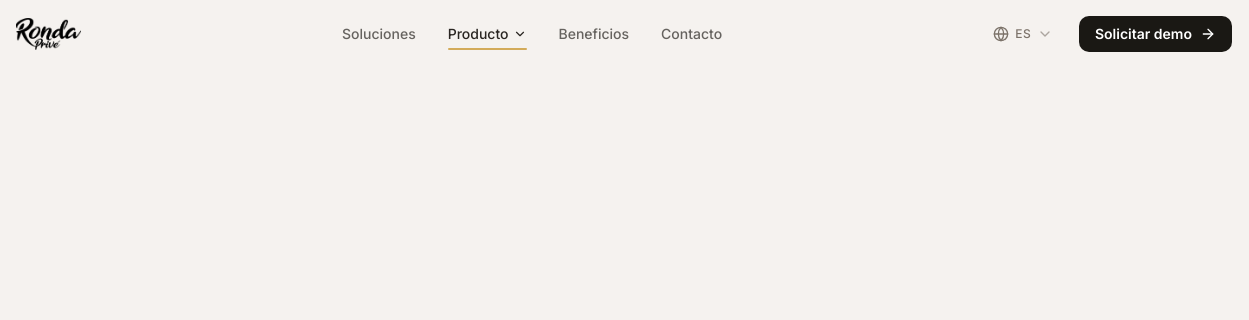
Test: Navbar product menu › is a collapsed disclosure until it is opened
This screenshot has width=1249, height=320.
Click the button "Producto". click: (487, 34)
box: [448,24,526,44]
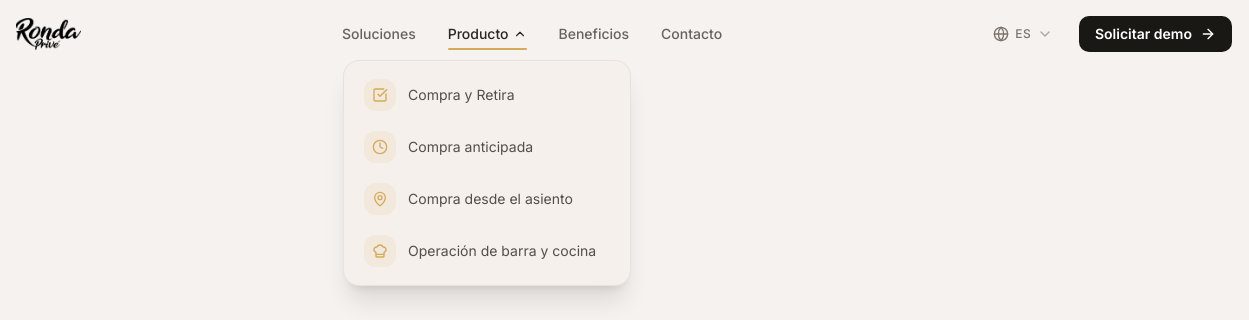
Now the button "Producto" is expanded, box [448,24,526,44]
